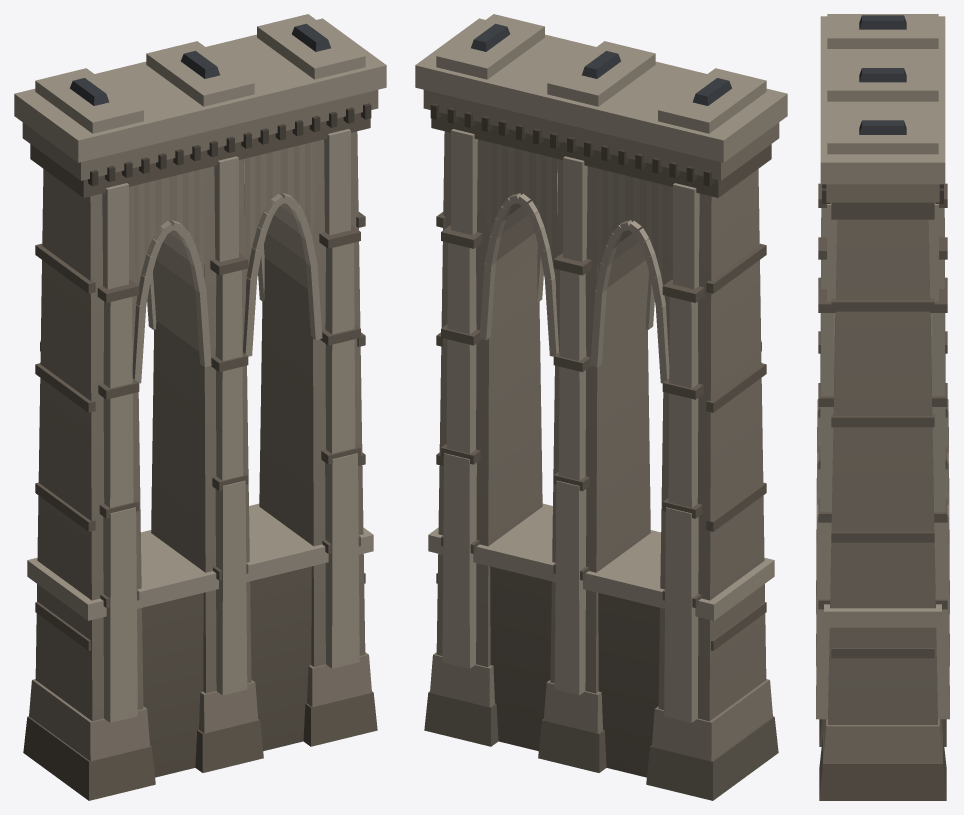
The model's file is bridge_tower_stone.glb.
3 views of the same model, side by side, from view 1: azimuth 30°, elevation 25°; view 2: azimuth 150°, elevation 25°; view 3: azimuth 270°, elevation 25° (orthographic). The views are drawn at different scales.
Visible parts, largest first — view 1: bridge_tower_stone; view 2: bridge_tower_stone; view 3: bridge_tower_stone.
Part boxes in pixels (x1,y1,x2,y2): bridge_tower_stone: (14, 14, 386, 800); bridge_tower_stone: (415, 14, 787, 800); bridge_tower_stone: (816, 14, 949, 800).
Size of the model in its own units: 43.4 by 91.6 by 16.8.
